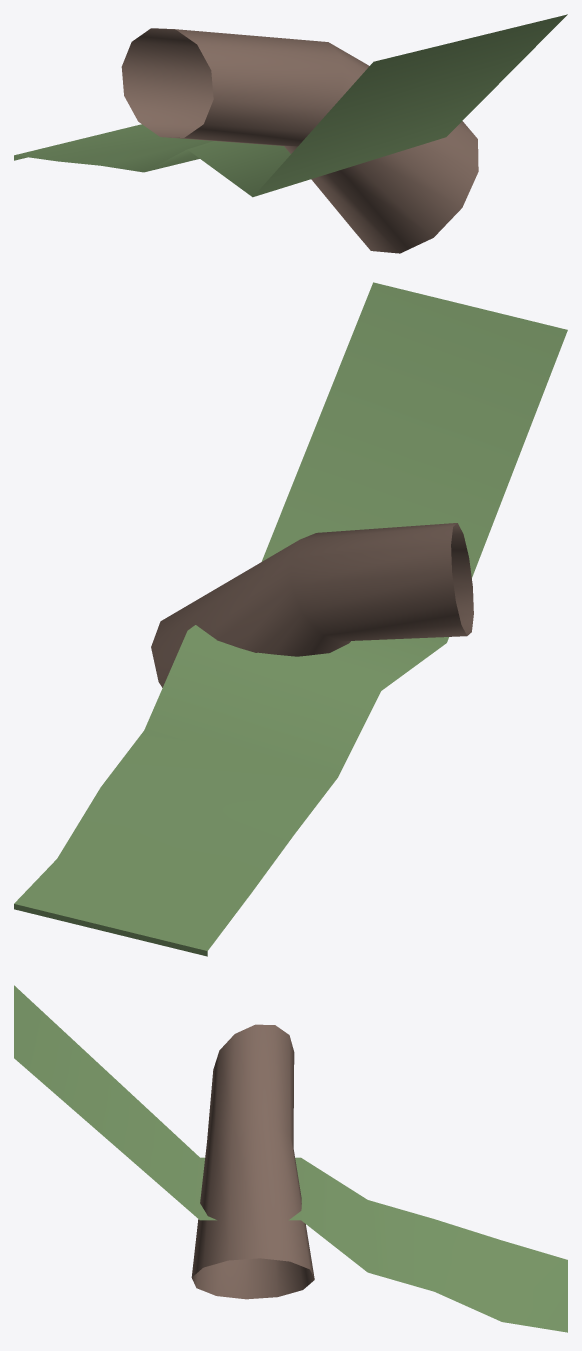
The model's file is MSH_Stands_07.fbx.
3 renders of one model, top to bottom at view 1: azimuth 30°, elevation 25°; view 2: azimuth 150°, elevation 25°; view 3: azimuth 270°, elevation 25°, orthographic. The views are drawn at different scales.
Parts seen in each view (by area): view 1: MSH_Stands_07; view 2: MSH_Stands_07; view 3: MSH_Stands_07.
Part boxes in pixels (<box>): MSH_Stands_07: <box>14,14,567,253</box>; MSH_Stands_07: <box>14,282,567,956</box>; MSH_Stands_07: <box>14,985,567,1332</box>.
Bounding box in the file's own units: 1942 × 2111 × 3799.
